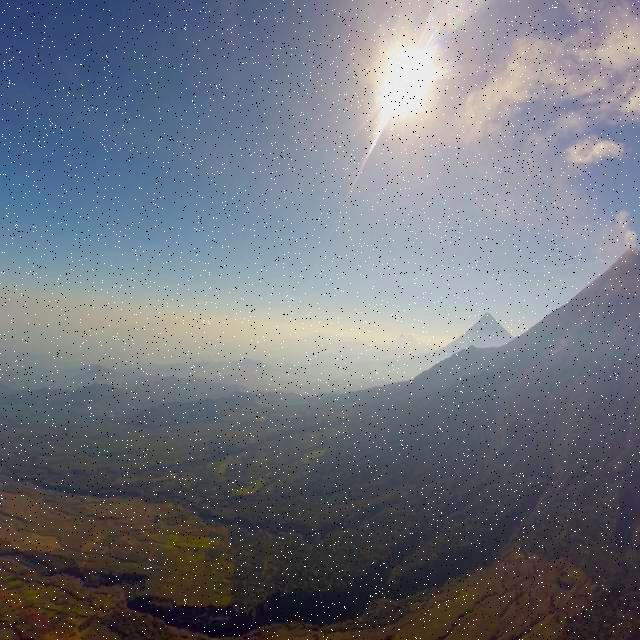Plume: (558, 134, 624, 170), (616, 209, 638, 254), (624, 224, 638, 253)
Summit: (607, 232, 640, 276), (623, 246, 637, 254)
